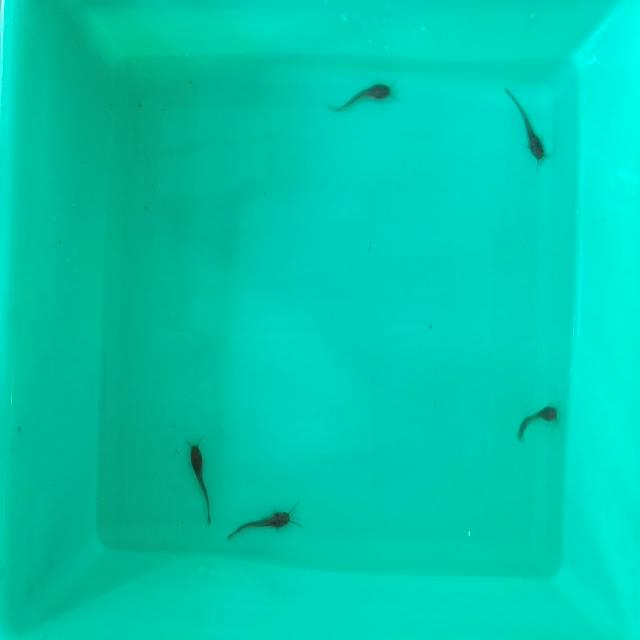lele: (502, 82, 545, 161), (224, 505, 293, 542), (187, 436, 216, 524), (328, 80, 394, 115), (519, 400, 561, 439)
